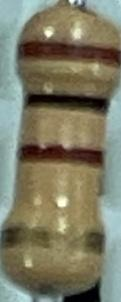Black: (21, 90, 110, 117)
Brown: (17, 41, 121, 70), (20, 144, 103, 170)
Side-Gold: (2, 226, 103, 255)
